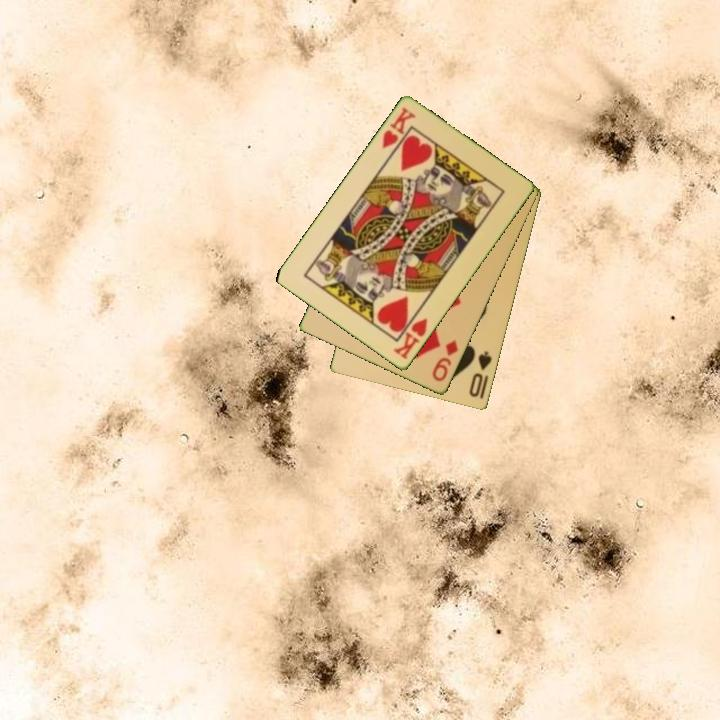10s: (466, 348, 495, 400)
9d: (428, 337, 462, 385)
Kh: (390, 308, 431, 363), (378, 104, 419, 152)
